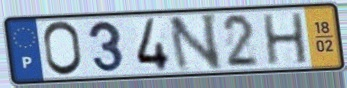2: (220, 12, 261, 69)
3: (84, 19, 128, 75)
4: (134, 16, 173, 73)
H: (260, 10, 311, 67)
N: (165, 11, 225, 75)
O: (41, 19, 85, 78)
